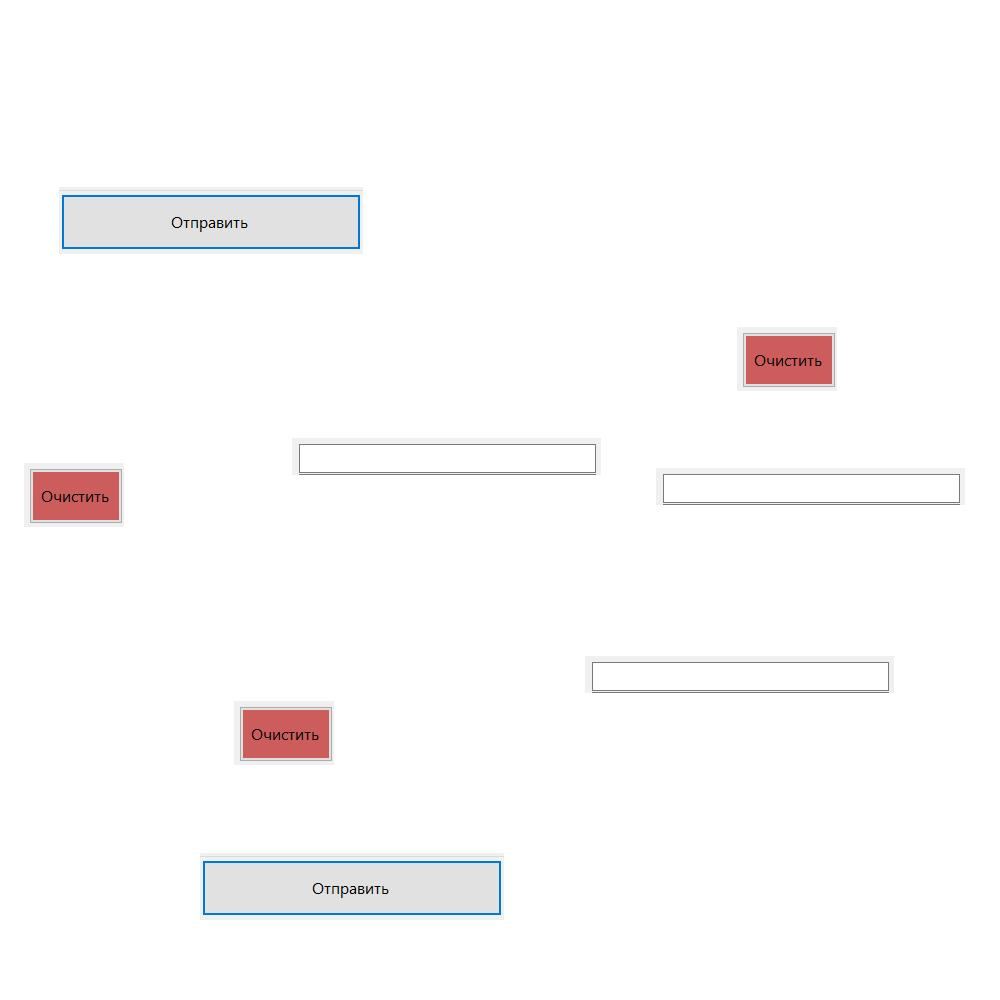Button: (200, 853, 504, 920), (59, 187, 363, 254), (234, 701, 334, 765), (24, 463, 124, 527), (737, 327, 837, 391)
EditText-: (585, 656, 894, 693), (292, 438, 601, 475), (656, 468, 965, 505)
